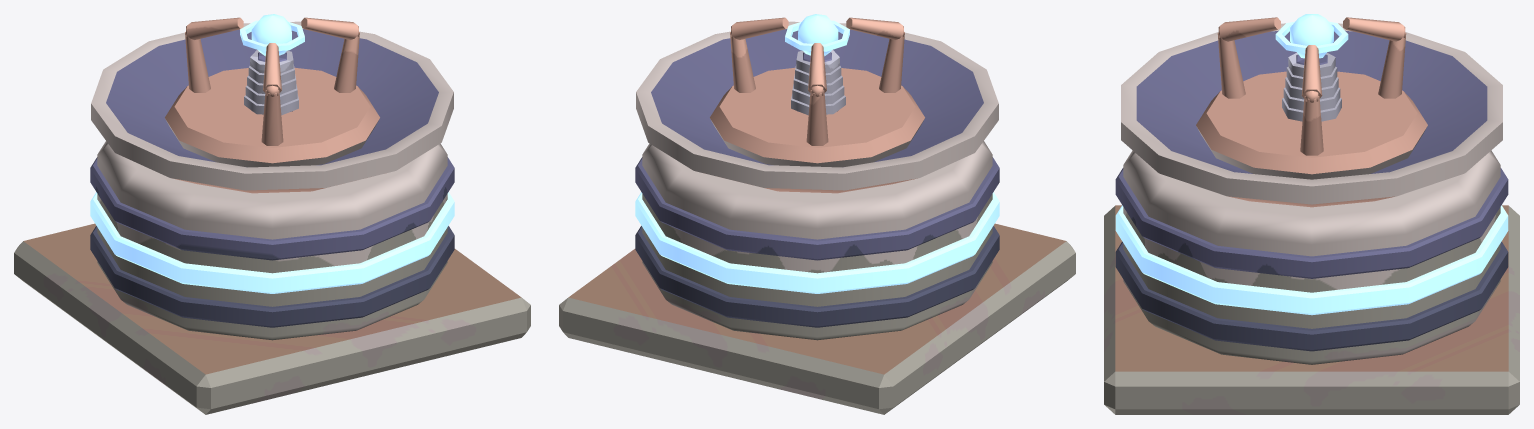
File: R4X_EMPTrapDeployer_LOD1.glb
3 renders of one model, left to right at view 1: azimuth 30°, elevation 25°; view 2: azimuth 150°, elevation 25°; view 3: azimuth 270°, elevation 25°, orthographic. The views are drawn at different scales.
Visible parts, largest first — view 1: R4X_EMPTrapDeployer_LOD1; view 2: R4X_EMPTrapDeployer_LOD1; view 3: R4X_EMPTrapDeployer_LOD1.
Part boxes in pixels (x1,y1,x2,y2): R4X_EMPTrapDeployer_LOD1: [14, 14, 530, 414]; R4X_EMPTrapDeployer_LOD1: [559, 14, 1075, 414]; R4X_EMPTrapDeployer_LOD1: [1104, 14, 1519, 414].
Bounding box in the file's own units: 0.52 × 0.437 × 0.52.
5 materials, 4 textured.
